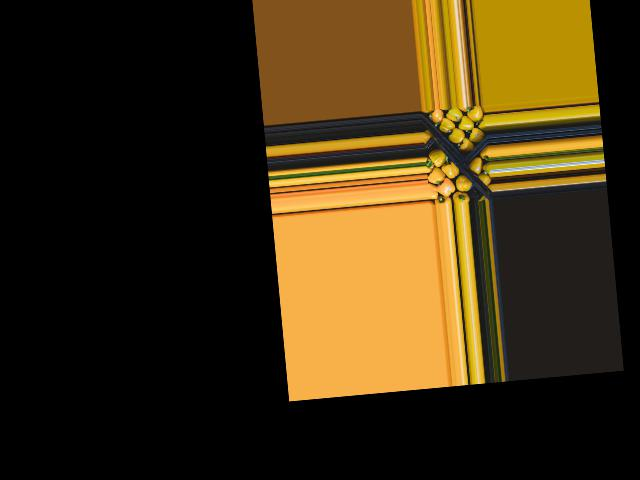bell_pepper: (468, 105, 486, 125)
